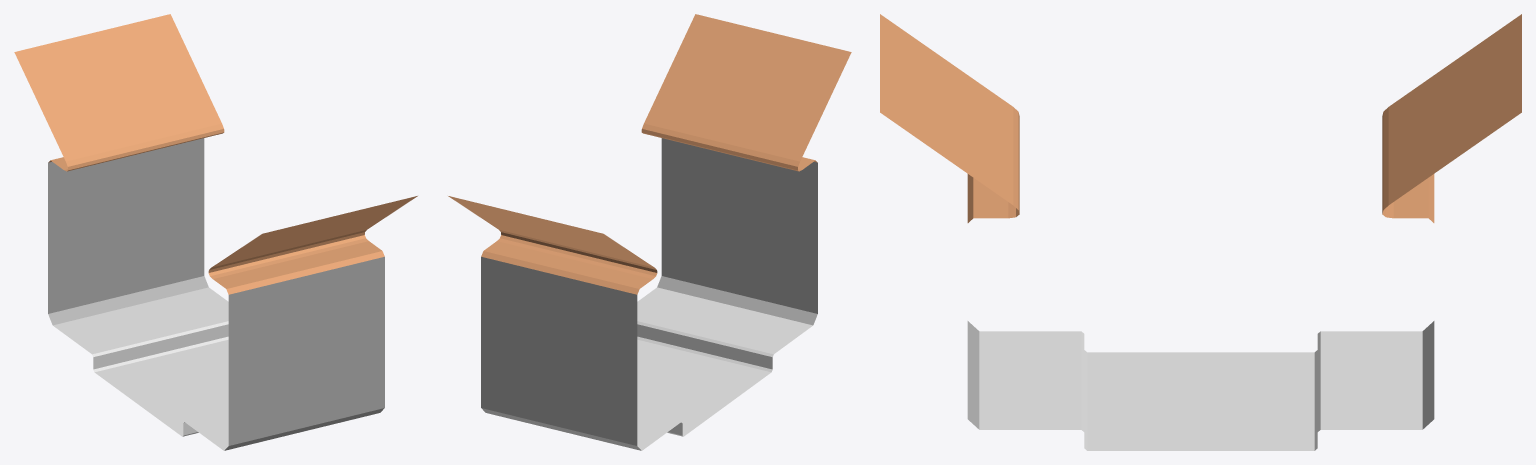
File: SegmentStraight.fbx
3 renders of one model, left to right at view 1: azimuth 30°, elevation 25°; view 2: azimuth 150°, elevation 25°; view 3: azimuth 270°, elevation 25°, orthographic. The views are drawn at different scales.
Parts seen in each view (by area): view 1: Plane; view 2: Plane; view 3: Plane.
Part boxes in pixels (left/top/right/bottom): Plane: left=14, top=14, right=417, bottom=450; Plane: left=448, top=14, right=851, bottom=450; Plane: left=880, top=14, right=1521, bottom=450.
Bounding box in the file's own units: 200 × 320 × 550.
